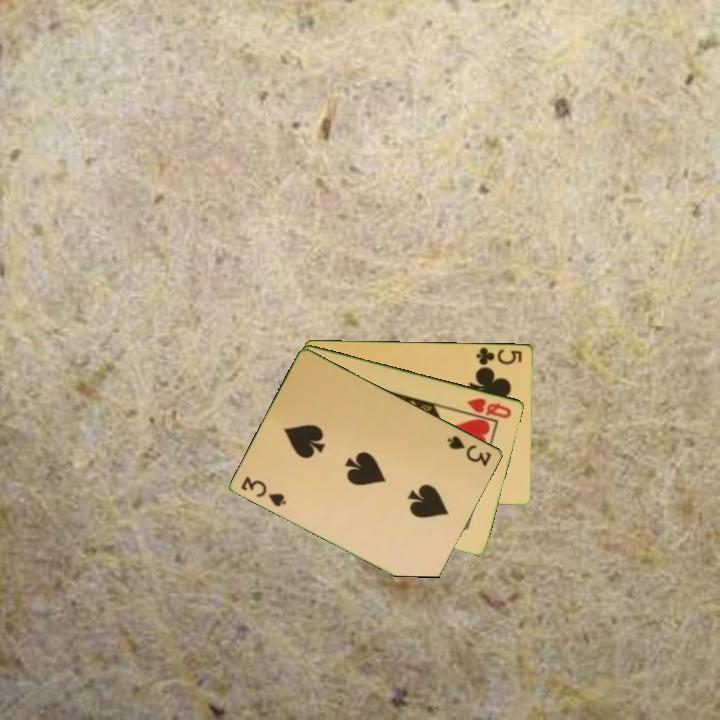3s: (238, 472, 290, 510), (444, 432, 495, 469)
5c: (473, 344, 525, 368)
Qh: (464, 394, 515, 421)
